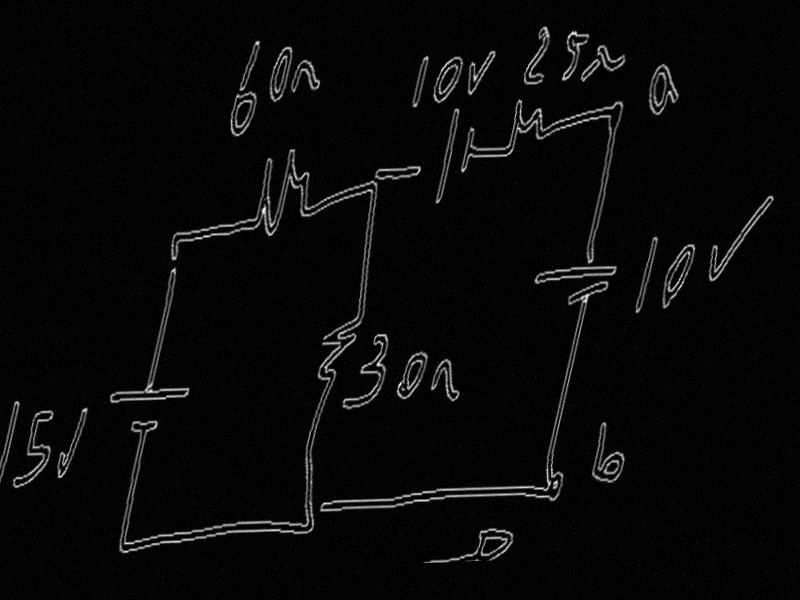0: (655, 241, 699, 313), (262, 42, 299, 105), (391, 348, 433, 401), (427, 54, 468, 108)
1: (0, 398, 26, 507), (630, 235, 662, 319), (407, 52, 433, 110)
2: (519, 23, 560, 88)
3: (338, 330, 398, 415)
5: (8, 403, 63, 490), (556, 27, 593, 78)
6: (222, 35, 275, 137)
V: (701, 193, 779, 284), (50, 406, 91, 484), (461, 47, 500, 96)
